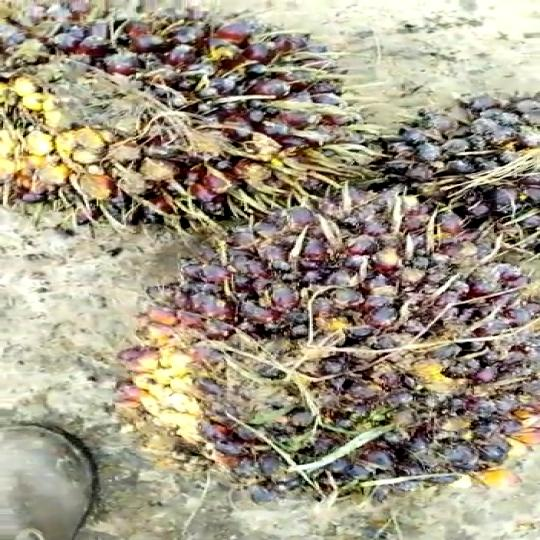kurang masak: (139, 218, 540, 506), (0, 0, 360, 224)
